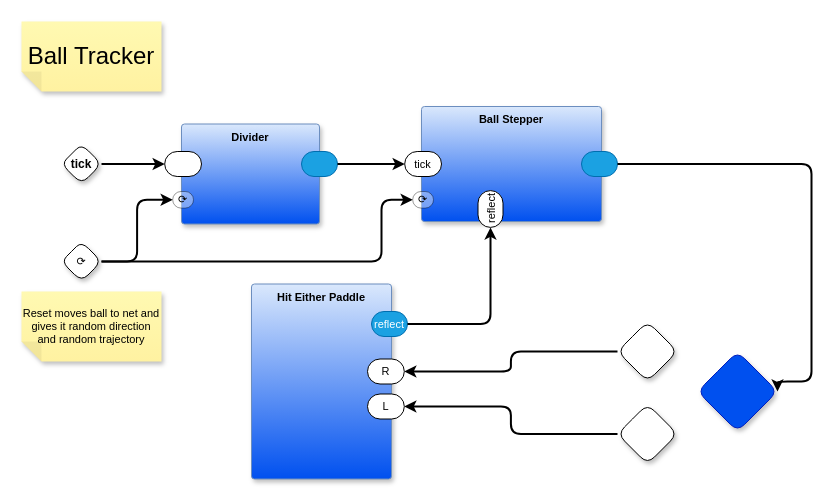
Image size: 837x503. Some labels were removed from this diagram. The centre of each missing label's shape, as x and y in pixels:
hit left paddle: [648,435]
hit right paddle: [648,352]
update ball position: [738,392]
